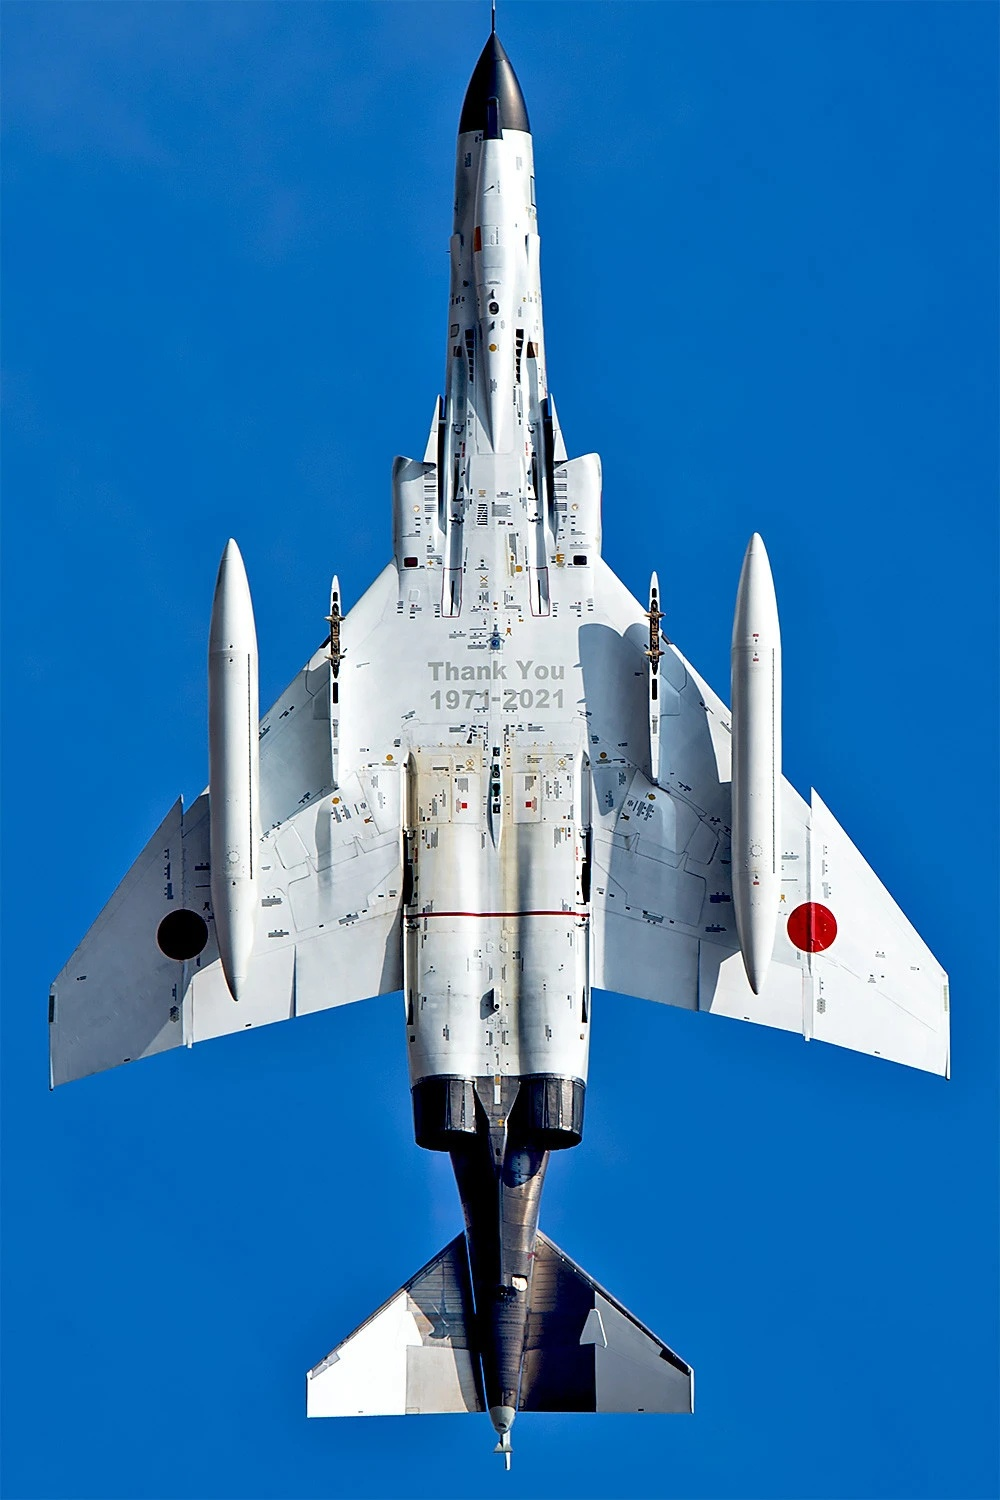F4: (48, 1, 951, 1471)
